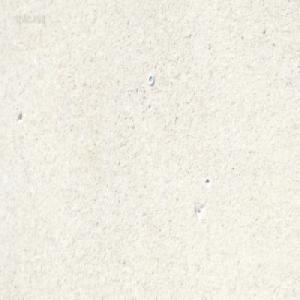Washer: (147, 73, 154, 85)
